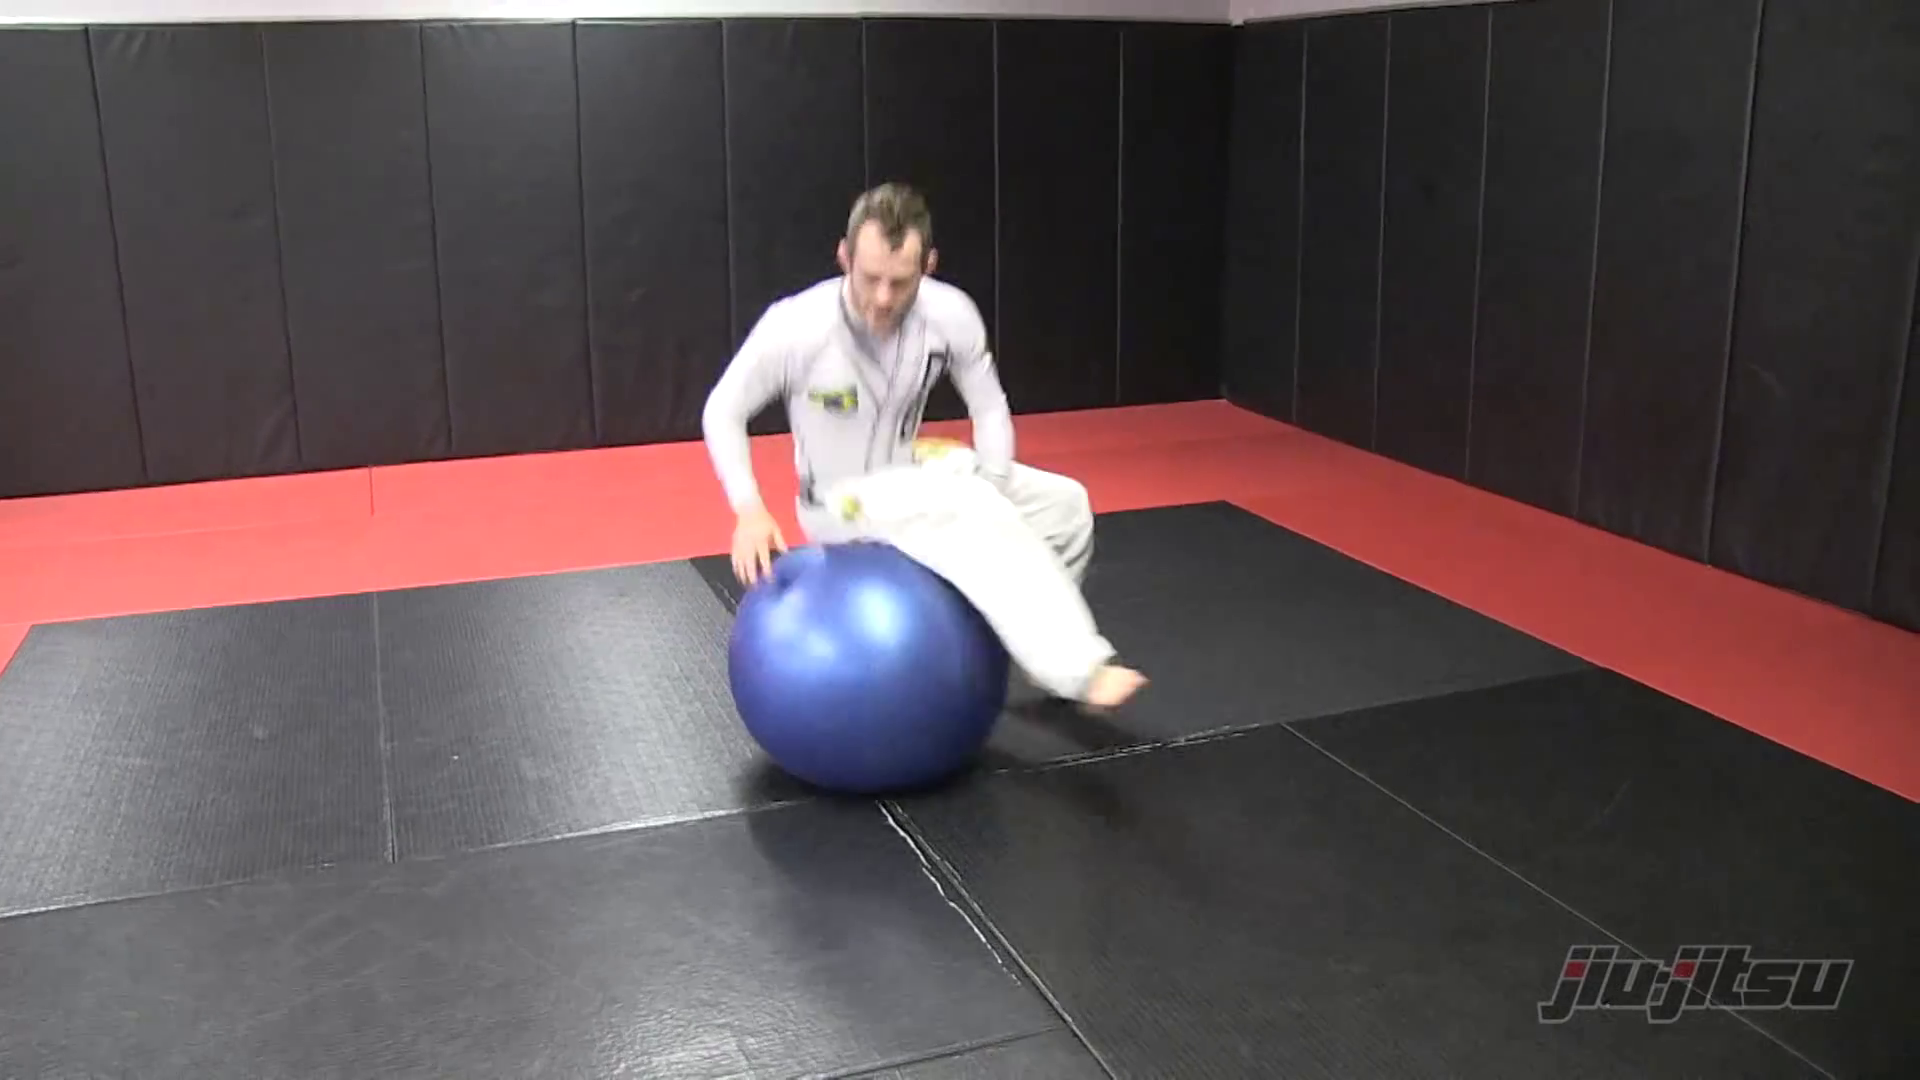yogaball: (711, 524, 1054, 816)
